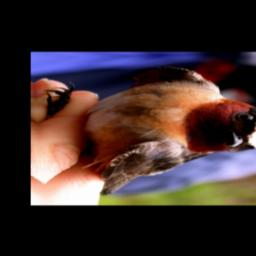Swallow: (41, 65, 256, 196)
